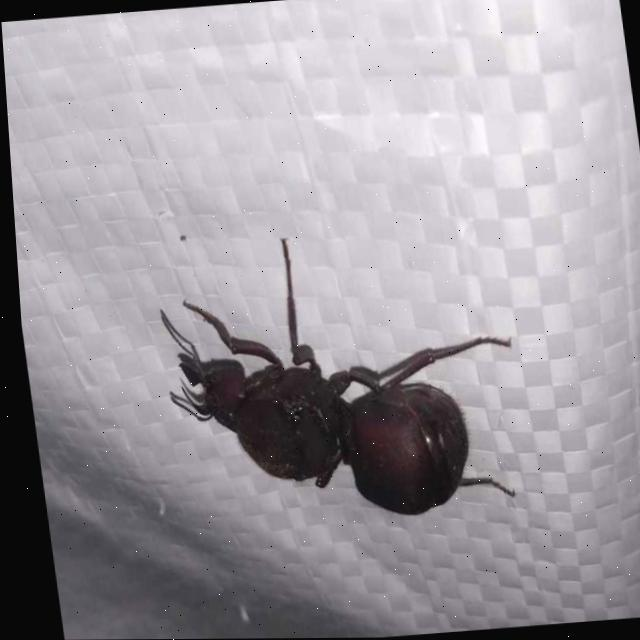Alive-Female-Dealate: (136, 223, 527, 533)
